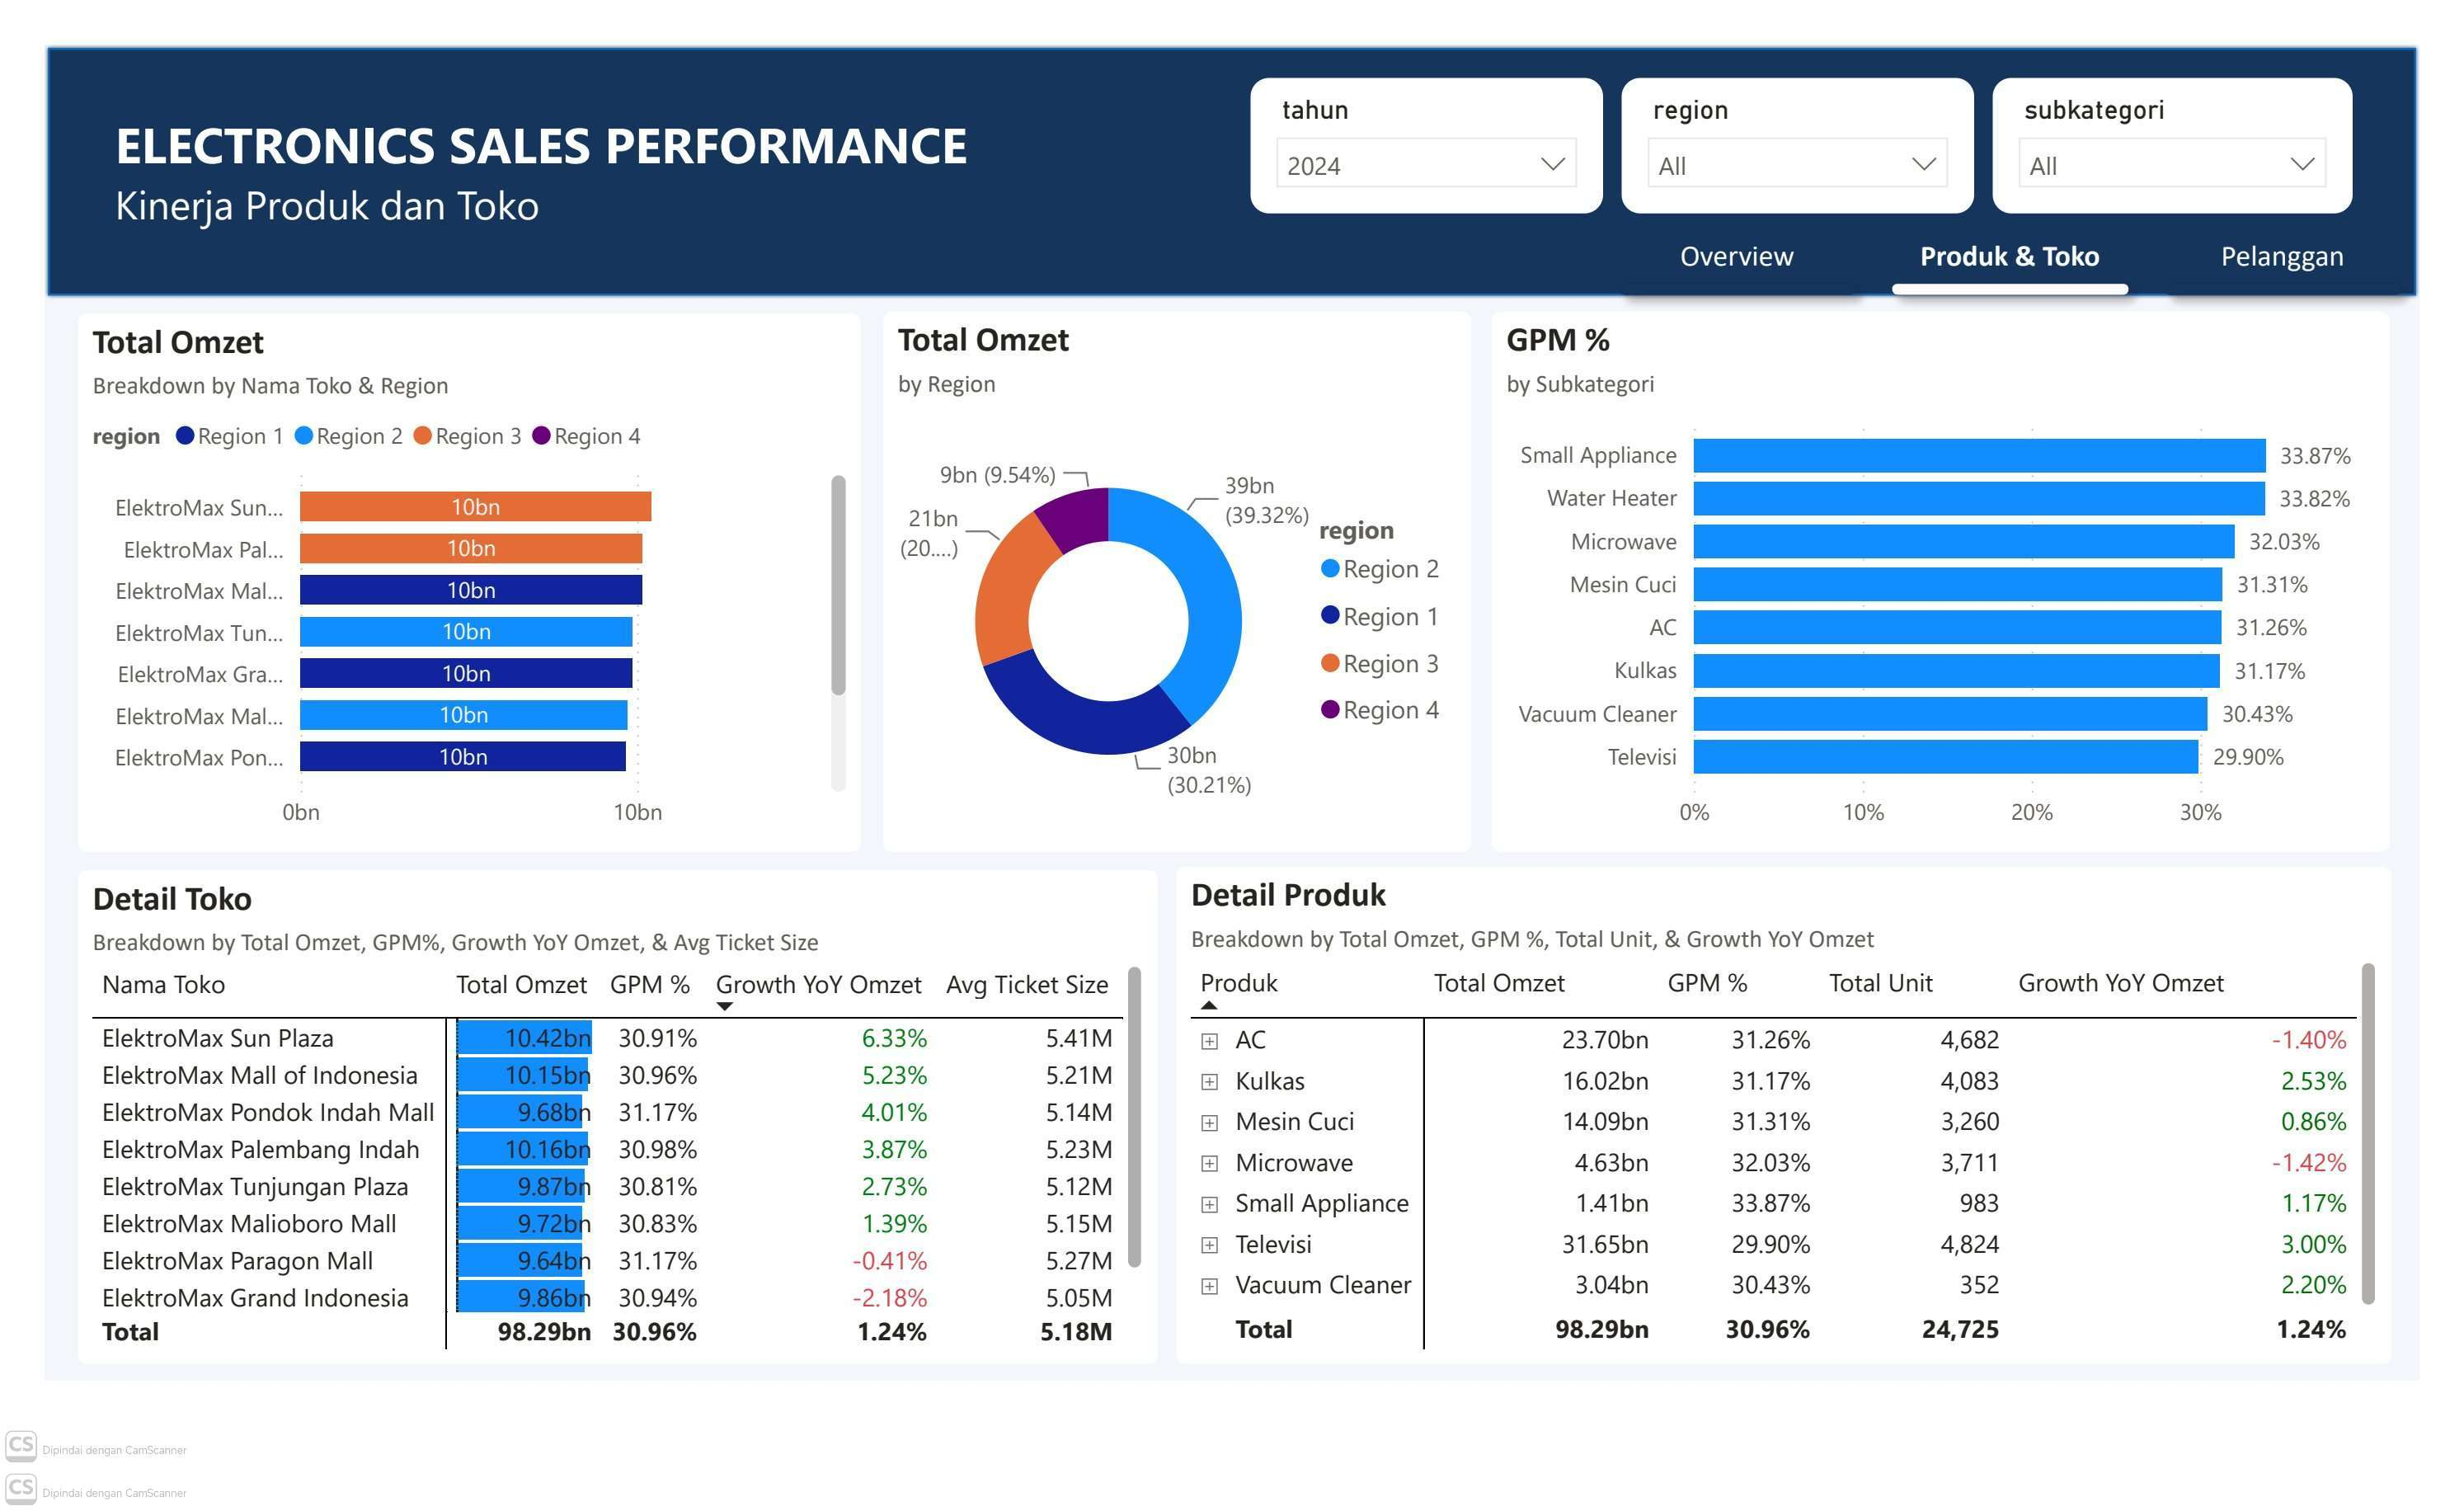

The page's visual inventory and layout, read from the dashboard file:
{"tool":"powerbi","page":{"name":"Produk & Toko","canvas":[1280,720],"ordinal":1},"visuals":[{"type":"barChart","title":"Total Omzet","fields":{"Category":["DIM_TOKO.nama_toko"],"Series":["DIM_TOKO.region"],"Y":["_MEASURE.Total Omzet"]},"box":[17.5,145.4,422.9,290],"z":0},{"type":"donutChart","title":"Total Omzet","fields":{"Category":["DIM_TOKO.region"],"Y":["_MEASURE.Total Omzet"]},"box":[451.6,143.9,317.1,291.4],"z":1000},{"type":"shape","box":[0,0,1280.2,137.2],"z":4000},{"type":"slicer","fields":{"Values":["DIM_WAKTU.tahun"]},"box":[650,17.8,190,73.3],"z":5000},{"type":"slicer","fields":{"Values":["DIM_PRODUK.subkategori"]},"box":[1050,17.8,194.4,73.3],"z":6000},{"type":"slicer","fields":{"Values":["DIM_TOKO.region"]},"box":[850,17.8,190,73.3],"z":7000},{"type":"group","id":"g1","title":"Group 1","box":[840,91.2,440,53],"z":8000},{"type":"textbox","box":[32.6,30.2,608.1,76.7],"z":9000},{"type":"pageNavigator","box":[840,91.2,440,43.8],"z":9000,"group":"g1"},{"type":"pageNavigator","box":[840,120,440,24.3],"z":10000,"group":"g1"},{"type":"pivotTable","title":"Detail Produk","fields":{"Rows":["DIM_PRODUK.subkategori","DIM_PRODUK.nama_produk"],"Values":["_MEASURE.Total Omzet","_MEASURE.GPM %","_MEASURE.Total Unit","_MEASURE.Growth YoY Omzet"]},"box":[610,443.3,655,267.5],"z":10000},{"type":"pivotTable","title":"Detail Toko","fields":{"Rows":["DIM_TOKO.nama_toko"],"Values":["_MEASURE.Total Omzet","_MEASURE.GPM %","_MEASURE.Growth YoY Omzet","_MEASURE.Avg Ticket Size"]},"box":[17.5,444.6,582.5,266.2],"z":11000},{"type":"barChart","title":"GPM %","fields":{"Category":["DIM_PRODUK.subkategori"],"Y":["_MEASURE.GPM %"]},"box":[780,143.9,484.3,291.4],"z":12000}]}

Visuals, with their boxes on the page's 1280x720 design canvas (x1, y1, x2, y2). These are canvas units, not pixel positions in the 2464x1511 screenshot, which may show the page scaled, cropped or inside an application window:
"Total Omzet" barChart: {"left": 18, "top": 145, "right": 440, "bottom": 435}
"Total Omzet" donutChart: {"left": 452, "top": 144, "right": 769, "bottom": 435}
shape: {"left": 0, "top": 0, "right": 1280, "bottom": 137}
slicer - DIM_WAKTU.tahun: {"left": 650, "top": 18, "right": 840, "bottom": 91}
slicer - DIM_PRODUK.subkategori: {"left": 1050, "top": 18, "right": 1244, "bottom": 91}
slicer - DIM_TOKO.region: {"left": 850, "top": 18, "right": 1040, "bottom": 91}
"Group 1" group: {"left": 840, "top": 91, "right": 1280, "bottom": 144}
textbox: {"left": 33, "top": 30, "right": 641, "bottom": 107}
pageNavigator: {"left": 840, "top": 91, "right": 1280, "bottom": 135}
pageNavigator: {"left": 840, "top": 120, "right": 1280, "bottom": 144}
"Detail Produk" pivotTable: {"left": 610, "top": 443, "right": 1265, "bottom": 711}
"Detail Toko" pivotTable: {"left": 18, "top": 445, "right": 600, "bottom": 711}
"GPM %" barChart: {"left": 780, "top": 144, "right": 1264, "bottom": 435}
